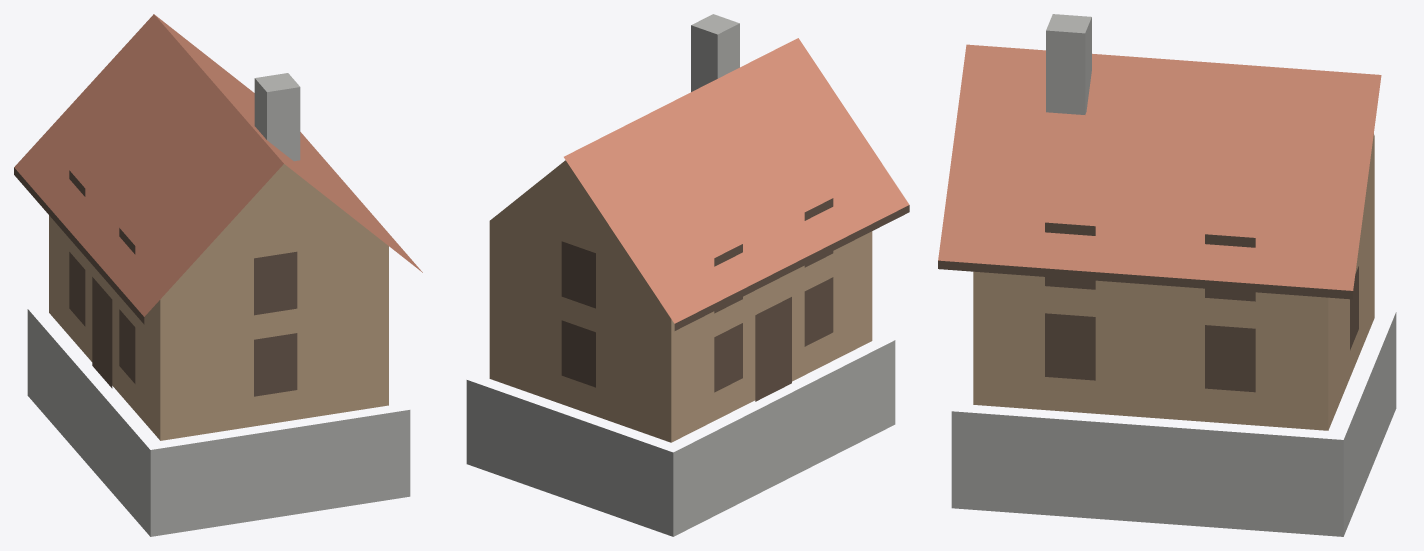
Rendered from house3.glb.
3 views of the same model, side by side, from view 1: azimuth 30°, elevation 25°; view 2: azimuth 150°, elevation 25°; view 3: azimuth 270°, elevation 25° (orthographic). The views are drawn at different scales.
Parts seen in each view (by area): view 1: raghave:Bld_Crossing_House_11; view 2: raghave:Bld_Crossing_House_11; view 3: raghave:Bld_Crossing_House_11.
Boxes of the visible parts, x1,y1,x2,y2 form: raghave:Bld_Crossing_House_11: (14, 14, 422, 536); raghave:Bld_Crossing_House_11: (466, 14, 909, 536); raghave:Bld_Crossing_House_11: (938, 14, 1396, 536).
Bounding box in the file's own units: 34.17 × 41.62 × 40.37.
